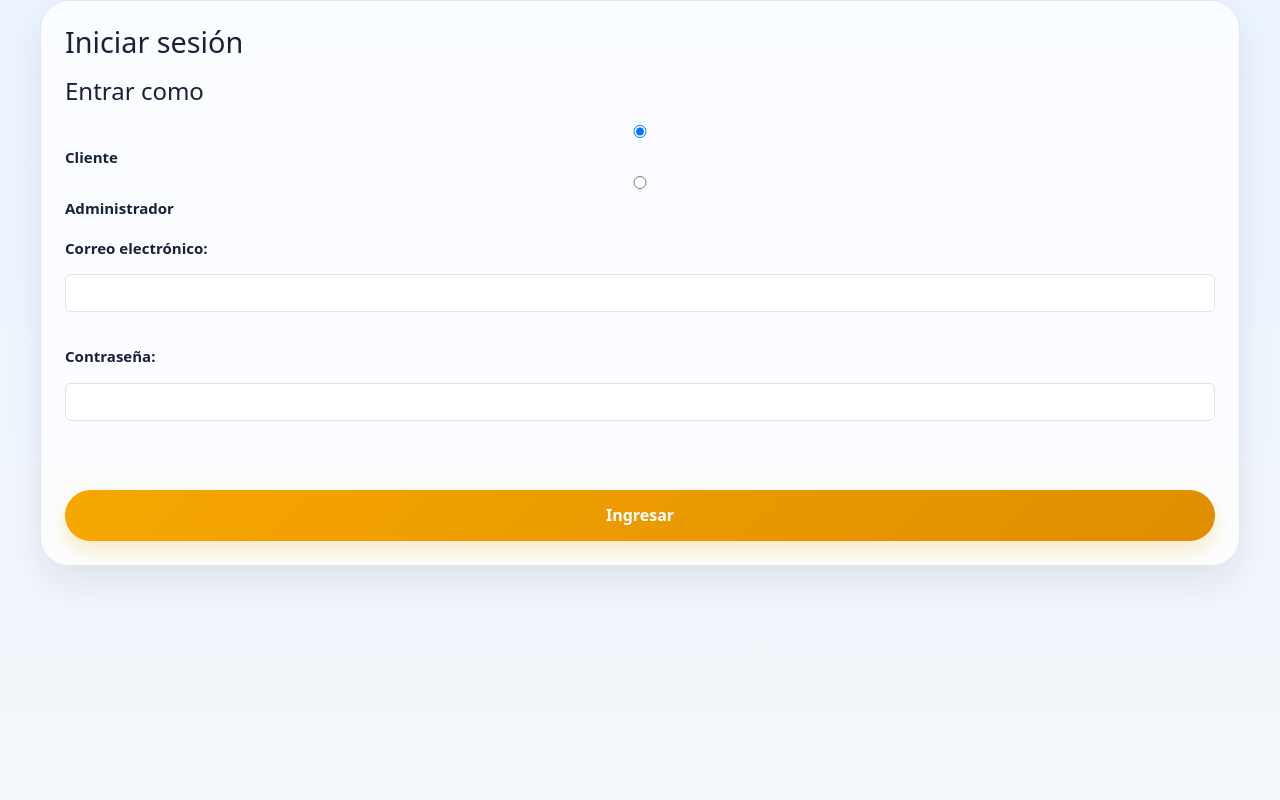
Test case: muestra el modo administrador elegido al ingresar datos válidos
Type "admin@sonidovivo.cl" into the field labelled "Correo electrónico:" at (640,294), box 65,274 -> 1215,312
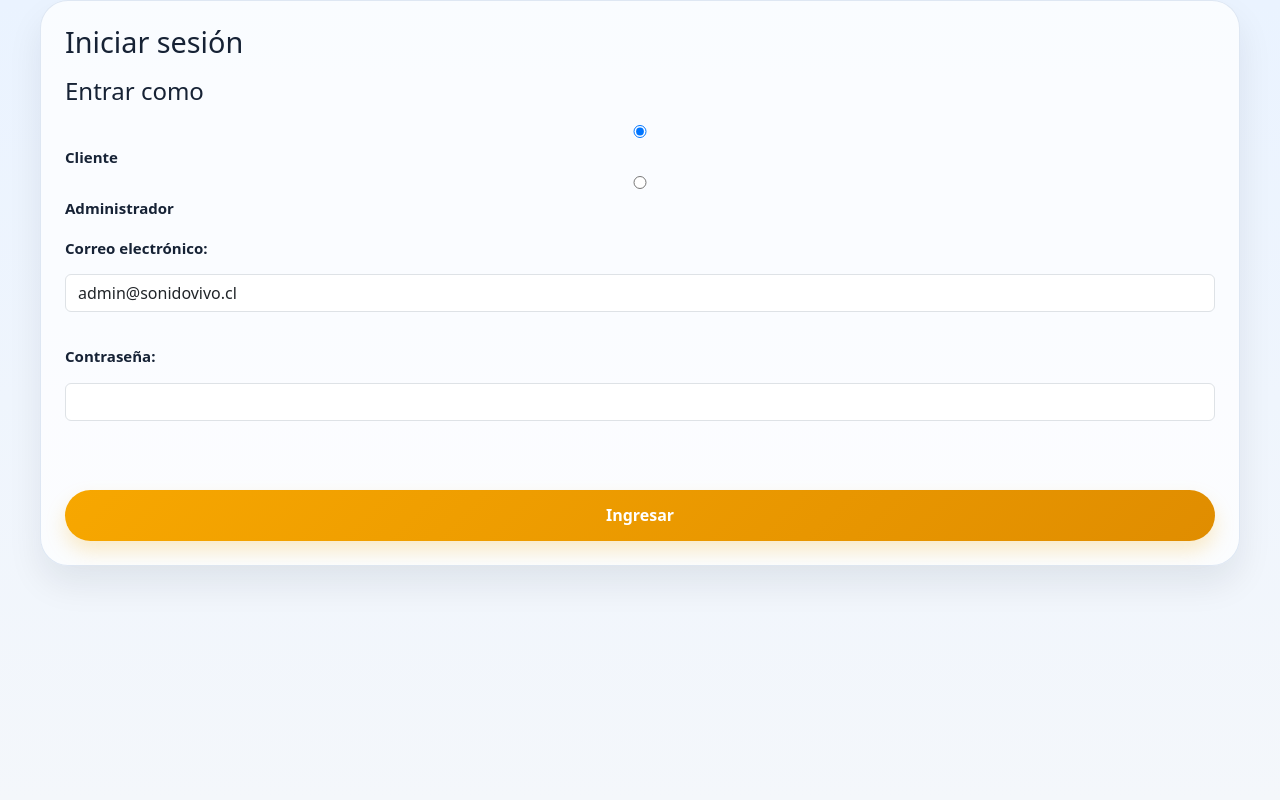
Type "clave-segura" into the password field labelled "Contraseña:" at (640,402), box 65,383 -> 1215,421
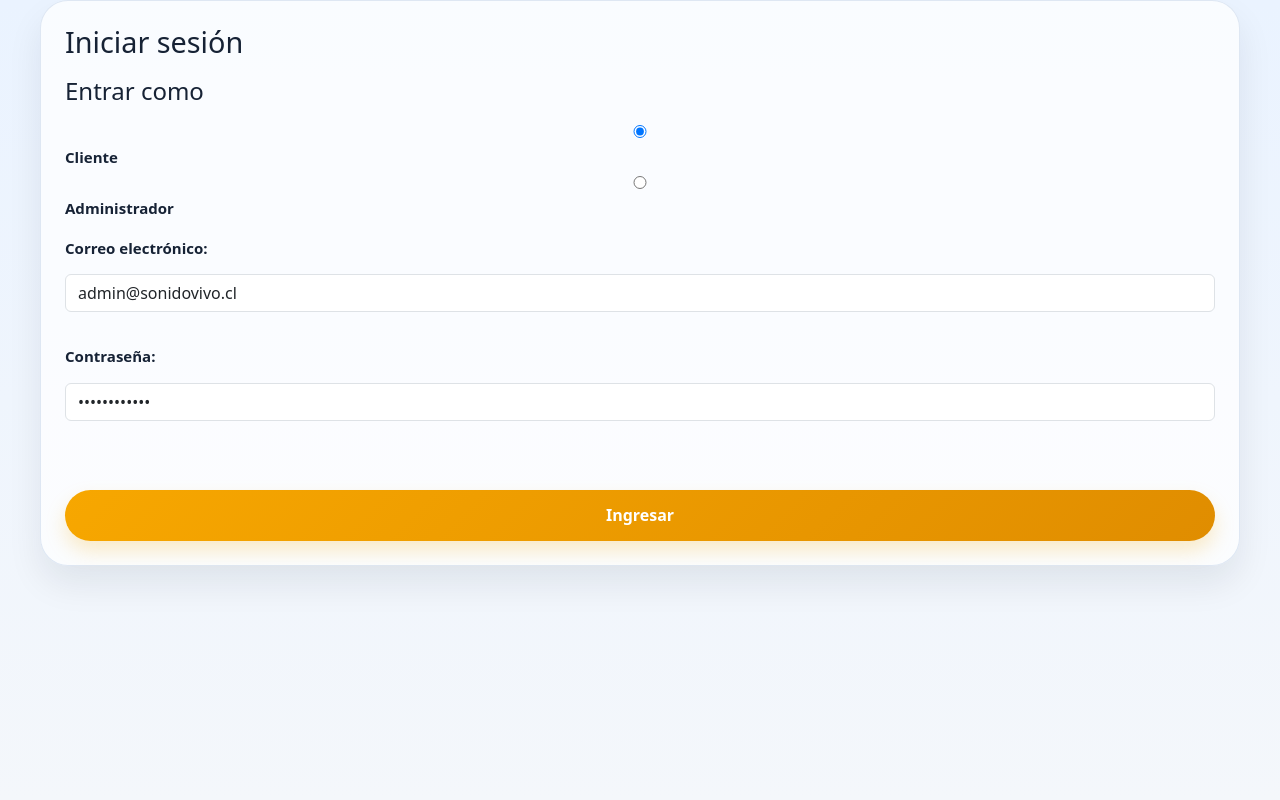
Click the radio button labelled "Administrador" at (640,182), box 65,176 -> 1215,189
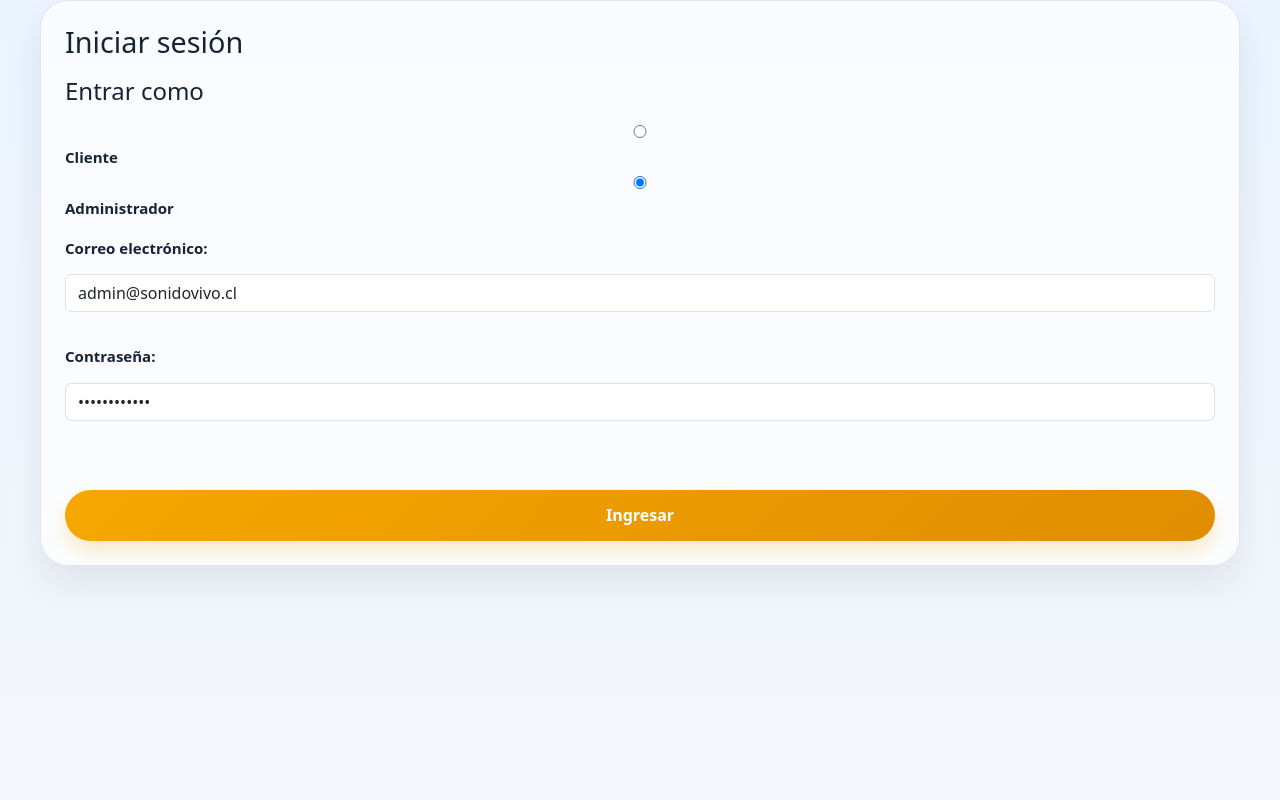
Click the button "Ingresar" at (640,515), box 65,490 -> 1215,541
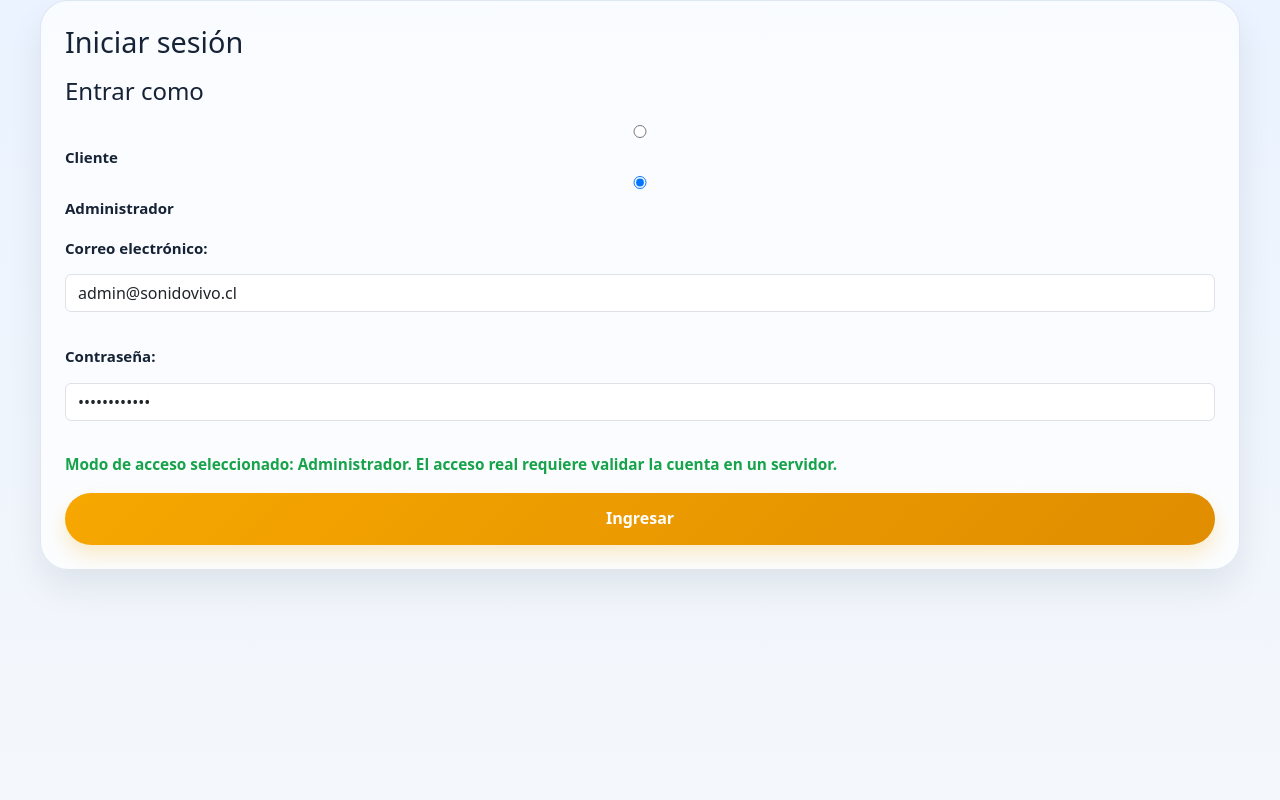
Result: the message shows "Administrador" at 65,454 -> 837,475
